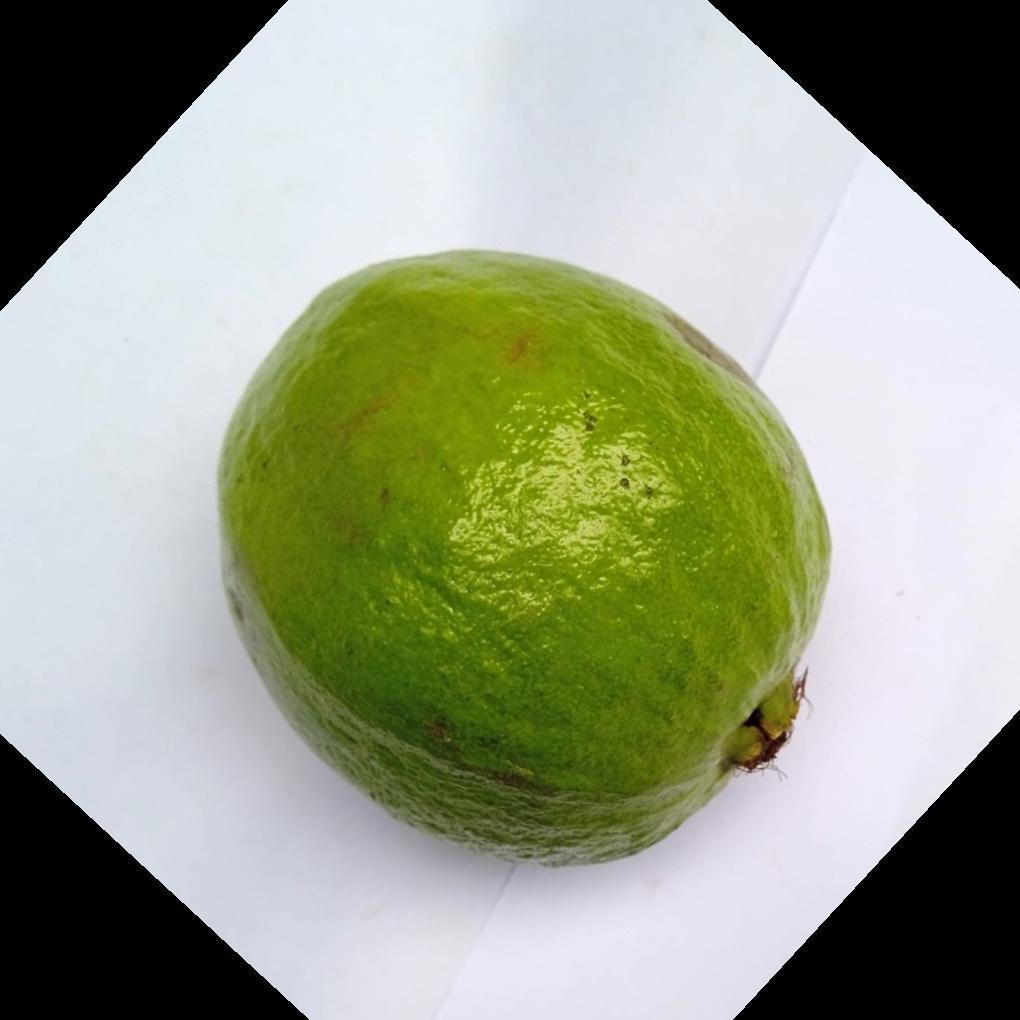FreshGuava: (212, 249, 834, 871)
